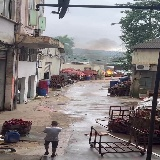fire: (106, 69, 113, 74)
